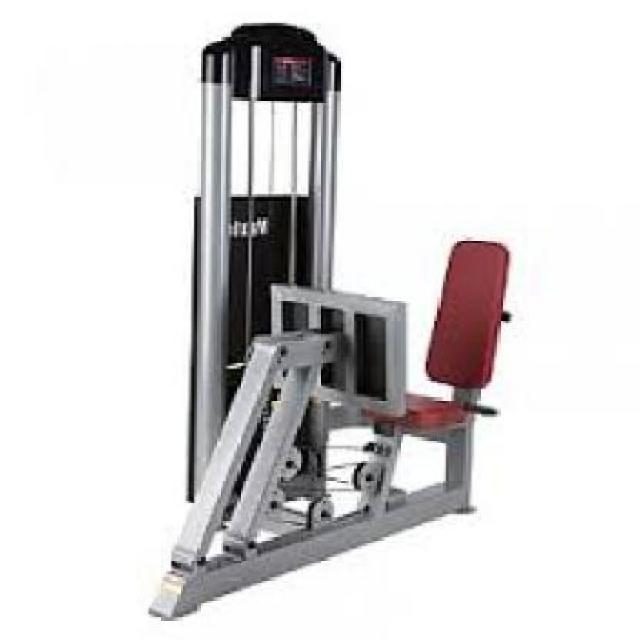leg press: (103, 11, 522, 640)
